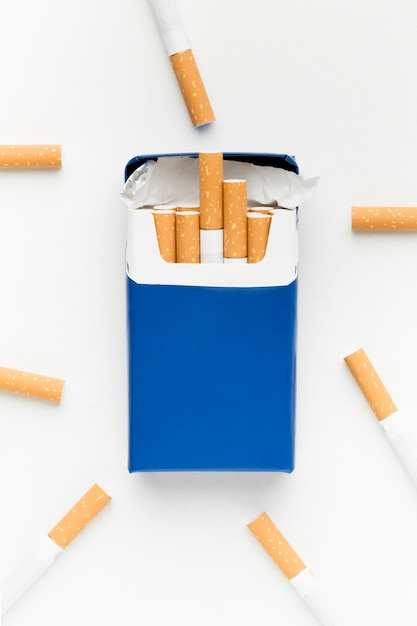cigarette: (123, 148, 304, 476), (0, 485, 109, 620), (243, 507, 338, 626), (344, 347, 417, 490), (150, 0, 216, 130), (1, 361, 67, 407), (342, 202, 417, 241), (199, 149, 223, 263), (221, 180, 249, 262), (3, 140, 65, 173), (150, 209, 176, 262), (175, 210, 201, 263), (248, 212, 272, 262)
